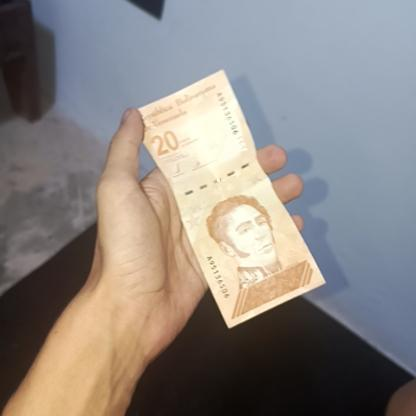twenty-front-vef: (138, 68, 326, 330)
